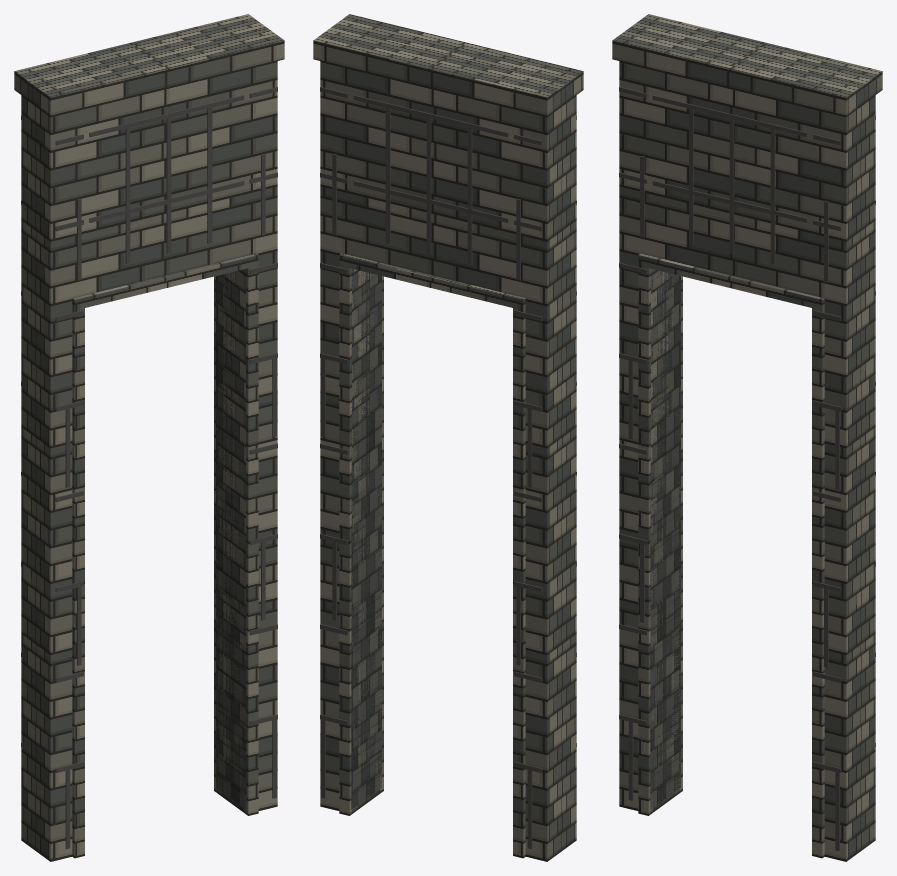
Rendered from tile wall door hole 1x v2 textured.glb.
3 views of the same model, side by side, from view 1: azimuth 30°, elevation 25°; view 2: azimuth 150°, elevation 25°; view 3: azimuth 330°, elevation 25° (orthographic).
Visible parts, largest first — view 1: doorhole_v2_left_jamb, doorhole_v2_right_jamb, doorhole_v2_lintel, doorhole_v2_top_cap, doorhole_v2_inner_right_reveal, doorhole_v2_trim_right_front, doorhole_v2_trim_left_front, doorhole_v2_trim_top_front, doorhole_v2_trim_right_back, doorhole_v2_mortar_lintel_course_front_302, doorhole_v2_mortar_lintel_course_front_266, doorhole_v2_mortar_lintel_vertical_front_0 (+2 smaller); view 2: doorhole_v2_left_jamb, doorhole_v2_lintel, doorhole_v2_right_jamb, doorhole_v2_inner_right_reveal, doorhole_v2_top_cap, doorhole_v2_trim_right_back, doorhole_v2_trim_left_back, doorhole_v2_trim_top_back, doorhole_v2_trim_right_front, doorhole_v2_mortar_lintel_course_back_302, doorhole_v2_mortar_lintel_course_back_266, doorhole_v2_mortar_lintel_vertical_back_1 (+2 smaller); view 3: doorhole_v2_right_jamb, doorhole_v2_lintel, doorhole_v2_left_jamb, doorhole_v2_inner_left_reveal, doorhole_v2_top_cap, doorhole_v2_trim_right_front, doorhole_v2_trim_left_front, doorhole_v2_trim_top_front, doorhole_v2_trim_left_back, doorhole_v2_mortar_lintel_course_front_302, doorhole_v2_mortar_lintel_course_front_266, doorhole_v2_mortar_lintel_vertical_front_2 (+2 smaller).
Boxes of the visible parts, <box> form: doorhole_v2_left_jamb: <box>21,95,82,861</box>; doorhole_v2_right_jamb: <box>216,61,277,813</box>; doorhole_v2_lintel: <box>82,69,245,295</box>; doorhole_v2_top_cap: <box>14,14,284,116</box>; doorhole_v2_inner_right_reveal: <box>216,255,247,809</box>; doorhole_v2_trim_right_front: <box>246,253,258,815</box>; doorhole_v2_trim_left_front: <box>72,295,84,858</box>; doorhole_v2_trim_top_front: <box>72,253,256,309</box>; doorhole_v2_trim_right_back: <box>214,276,216,792</box>; doorhole_v2_mortar_lintel_course_front_302: <box>89,95,244,137</box>; doorhole_v2_mortar_lintel_course_front_266: <box>89,180,244,222</box>; doorhole_v2_mortar_lintel_vertical_front_0: <box>125,125,130,263</box>; doorhole_v2_left_jamb: <box>515,95,576,861</box>; doorhole_v2_lintel: <box>352,69,515,295</box>; doorhole_v2_right_jamb: <box>320,61,381,813</box>; doorhole_v2_inner_right_reveal: <box>351,255,381,809</box>; doorhole_v2_top_cap: <box>313,14,583,116</box>; doorhole_v2_trim_right_back: <box>339,253,351,815</box>; doorhole_v2_trim_left_back: <box>513,296,525,858</box>; doorhole_v2_trim_top_back: <box>339,253,524,309</box>; doorhole_v2_trim_right_front: <box>381,276,383,792</box>; doorhole_v2_mortar_lintel_course_back_302: <box>353,95,508,137</box>; doorhole_v2_mortar_lintel_course_back_266: <box>353,180,508,222</box>; doorhole_v2_mortar_lintel_vertical_back_1: <box>426,115,431,253</box>; doorhole_v2_right_jamb: <box>814,95,875,861</box>; doorhole_v2_lintel: <box>651,69,814,295</box>; doorhole_v2_left_jamb: <box>619,61,680,813</box>; doorhole_v2_inner_left_reveal: <box>650,255,680,809</box>; doorhole_v2_top_cap: <box>612,14,882,116</box>; doorhole_v2_trim_right_front: <box>812,295,824,858</box>; doorhole_v2_trim_left_front: <box>638,253,650,815</box>; doorhole_v2_trim_top_front: <box>638,253,823,309</box>; doorhole_v2_trim_left_back: <box>680,276,682,792</box>; doorhole_v2_mortar_lintel_course_front_302: <box>652,95,807,137</box>; doorhole_v2_mortar_lintel_course_front_266: <box>652,180,807,222</box>; doorhole_v2_mortar_lintel_vertical_front_2: <box>770,127,775,264</box>.
Bounding box in the file's own units: 1.03 × 3.23 × 0.275.
Materials: 4 (3 with a texture image).
